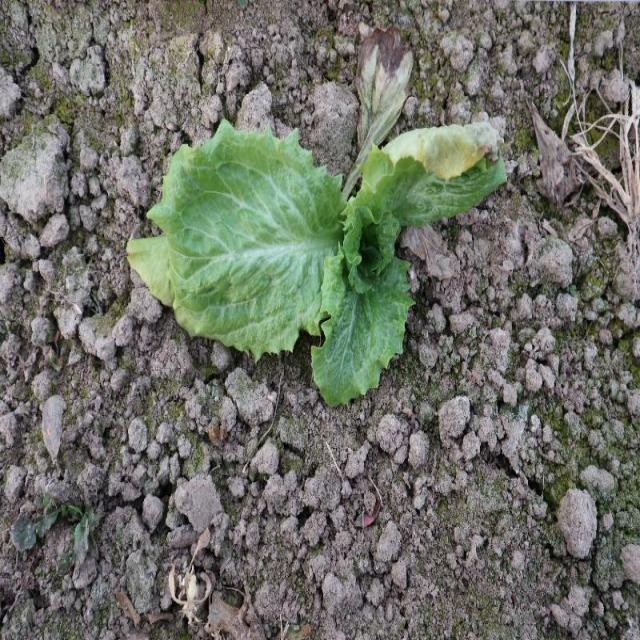crop: (125, 116, 512, 408)
